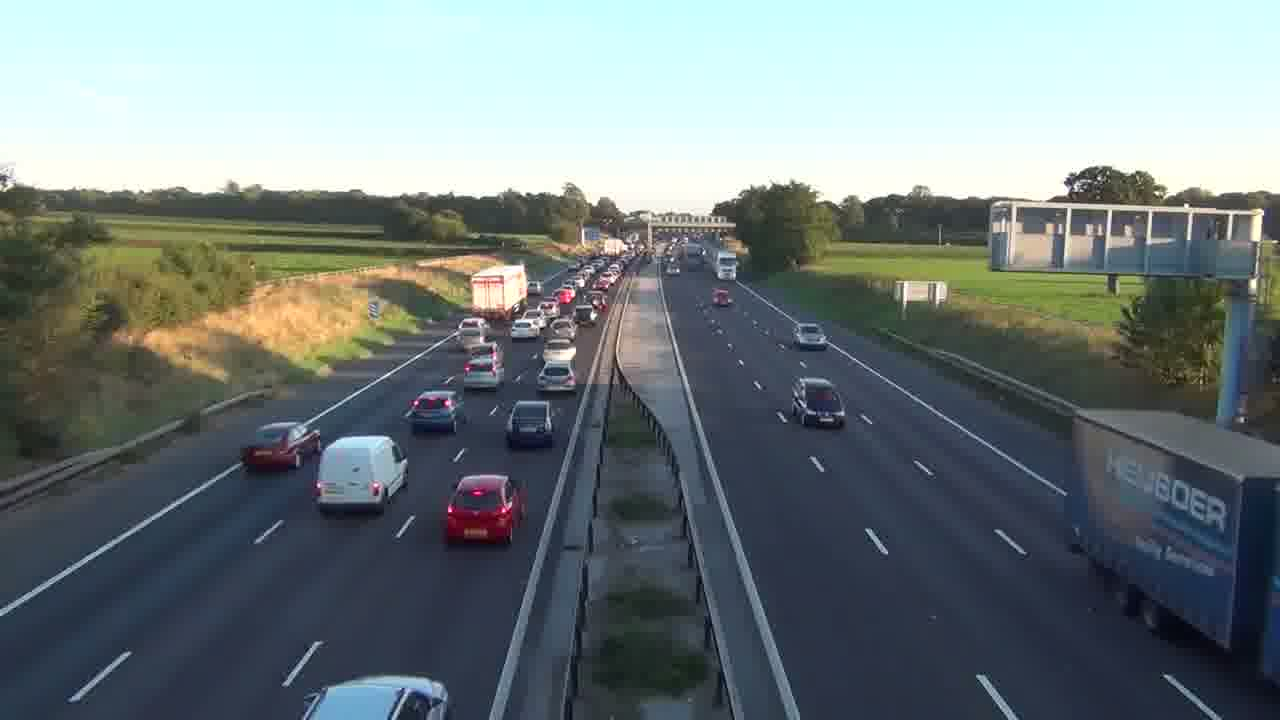car: (444, 473, 528, 545), (240, 420, 321, 473), (790, 376, 847, 429), (403, 389, 466, 434), (506, 399, 555, 449), (536, 363, 578, 393), (794, 322, 828, 350)
truck: (1068, 410, 1279, 691), (311, 434, 409, 515), (715, 251, 738, 280)
